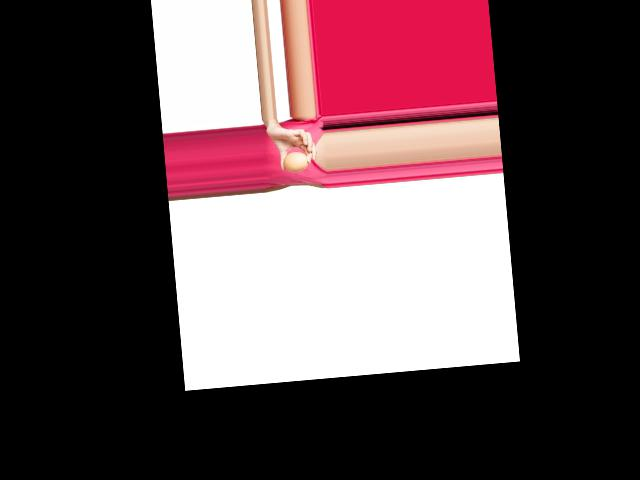egg: (282, 150, 309, 172)
